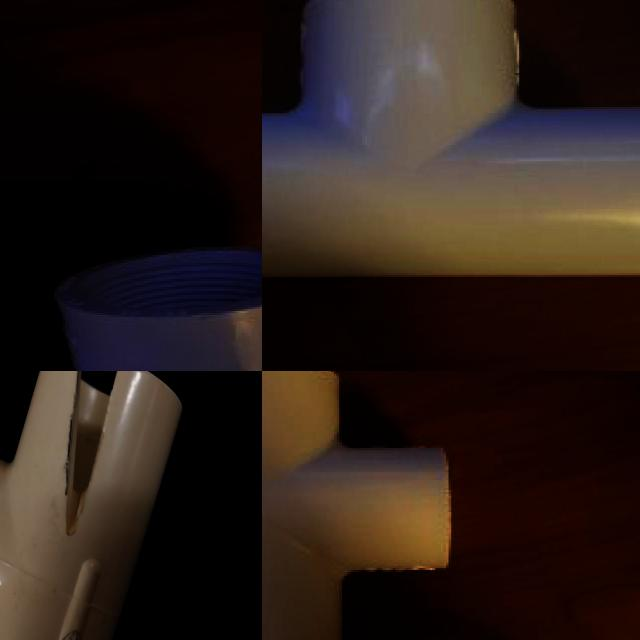T Joint: (262, 0, 640, 281), (262, 371, 454, 640)
